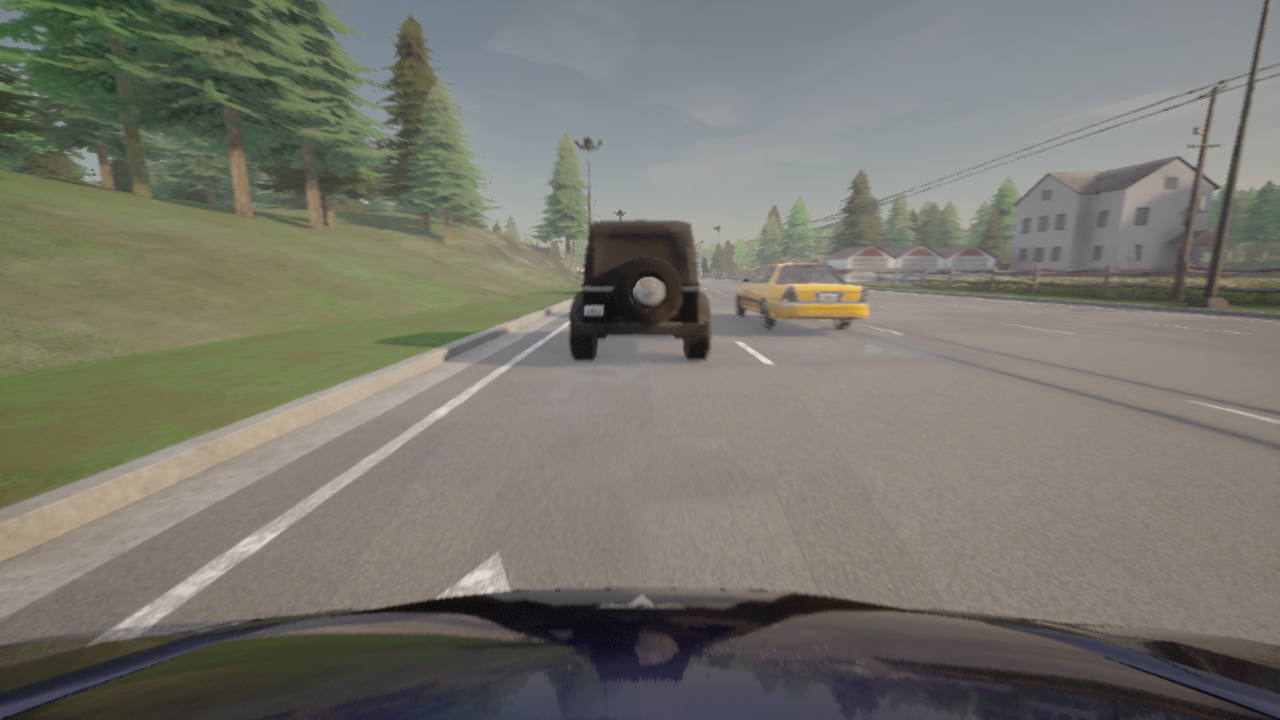cyclist: (0, 588, 1279, 719), (569, 221, 710, 359), (734, 257, 868, 330)
